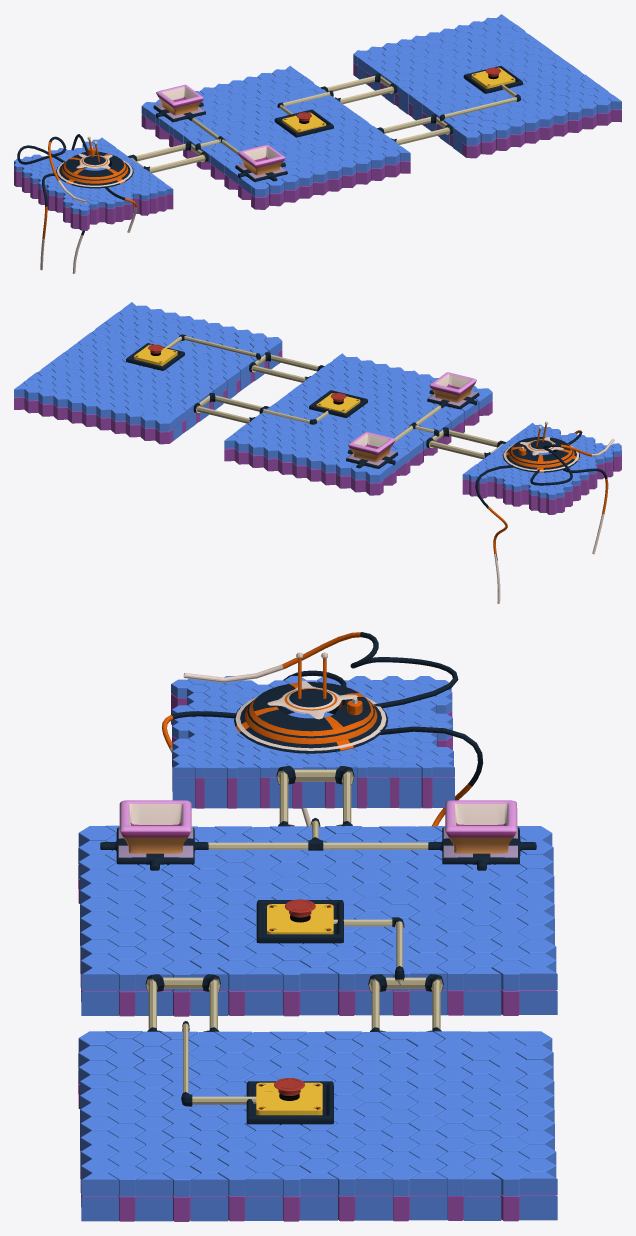
The model's file is RRound the world_Playground.fbx.
3 renders of one model, top to bottom at view 1: azimuth 30°, elevation 25°; view 2: azimuth 150°, elevation 25°; view 3: azimuth 270°, elevation 25°, orthographic. The views are drawn at different scales.
Visible parts, largest first — view 1: Pg1, Pg2, Pg3, Boss, Hop1, Hop02, Ong3, Ong, Ong1, Button2, Button1; view 2: Pg1, Pg2, Pg3, Boss, Hop02, Hop1, Ong, Ong3, Ong1, Button1, Button2; view 3: Pg1, Pg2, Pg3, Boss, Hop1, Hop02, Ong3, Button1, Button2, Ong, Ong1.
Part boxes in pixels (bbox=[...]): Pg1: bbox=[353, 14, 621, 158]; Pg2: bbox=[141, 66, 410, 209]; Pg3: bbox=[14, 137, 173, 230]; Boss: bbox=[17, 134, 137, 273]; Hop1: bbox=[235, 144, 287, 182]; Hop02: bbox=[153, 84, 205, 122]; Ong3: bbox=[128, 118, 239, 173]; Ong: bbox=[377, 83, 520, 144]; Ong1: bbox=[277, 73, 397, 115]; Button2: bbox=[274, 109, 333, 137]; Button1: bbox=[463, 66, 523, 93]; Pg1: bbox=[14, 302, 282, 444]; Pg2: bbox=[224, 353, 492, 495]; Pg3: bbox=[462, 423, 621, 514]; Boss: bbox=[475, 421, 614, 603]; Hop02: bbox=[346, 431, 398, 468]; Hop1: bbox=[427, 372, 479, 409]; Ong: bbox=[165, 334, 324, 382]; Ong3: bbox=[394, 405, 506, 459]; Ong1: bbox=[193, 393, 330, 424]; Button1: bbox=[126, 343, 184, 370]; Button2: bbox=[309, 390, 367, 417]; Pg1: bbox=[78, 1031, 557, 1221]; Pg2: bbox=[78, 825, 557, 1016]; Pg3: bbox=[171, 676, 454, 808]; Boss: bbox=[162, 632, 483, 827]; Hop1: bbox=[100, 800, 208, 870]; Hop02: bbox=[428, 800, 536, 870]; Ong3: bbox=[208, 766, 428, 850]; Button1: bbox=[246, 1078, 333, 1125]; Button2: bbox=[256, 899, 343, 943]; Ong: bbox=[145, 974, 256, 1106]; Ong1: bbox=[333, 917, 443, 1032].
Bounding box in the file's own units: 521 × 206 × 151.
12 materials, 1 textured.
